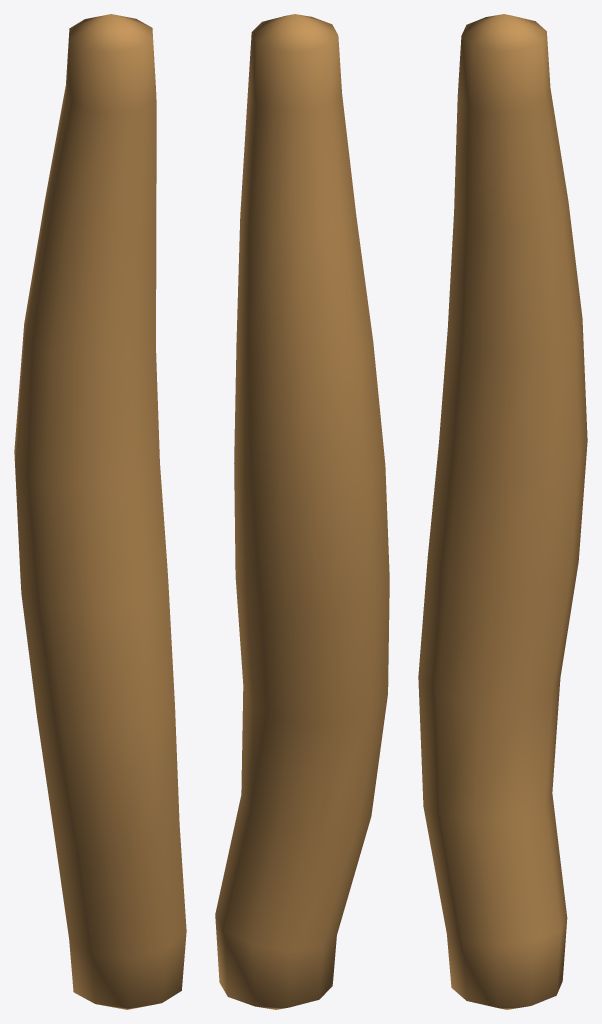
File: femur_T3_left_leg.obj
The picture shows the model from 3 angles, left to right: view 1: azimuth 30°, elevation 25°; view 2: azimuth 150°, elevation 25°; view 3: azimuth 270°, elevation 25°; orthographic projection.
Size of the model in its own units: 0.0146 by 0.0907 by 0.0141.
